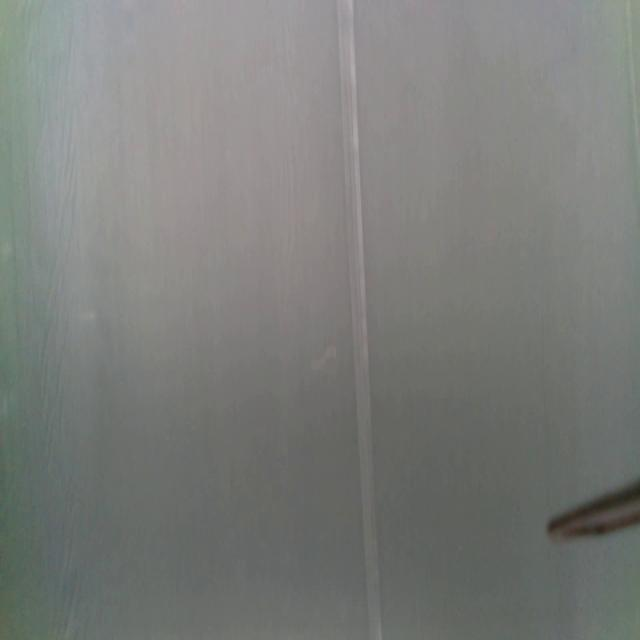crease: (337, 0, 382, 640), (626, 0, 639, 158)
